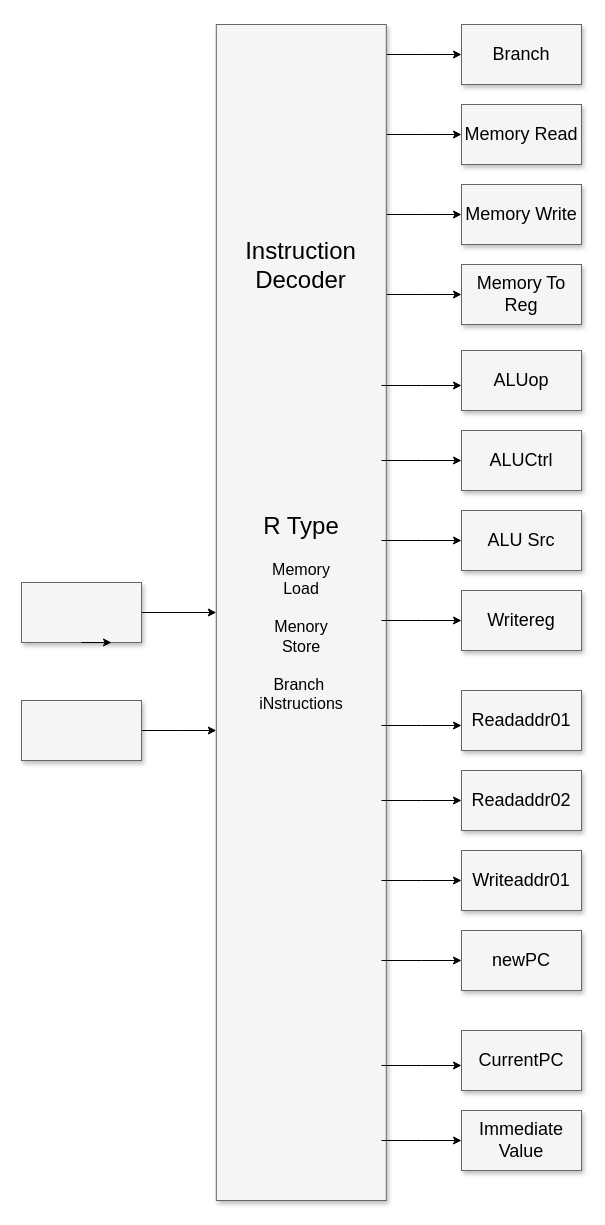
This 605x1225 diagram has some shape labels left out. Each missing label, with the centre of its shape:
"Instruction [31:0]" belongs at (x=82, y=614).
"PC" belongs at (x=82, y=732).
